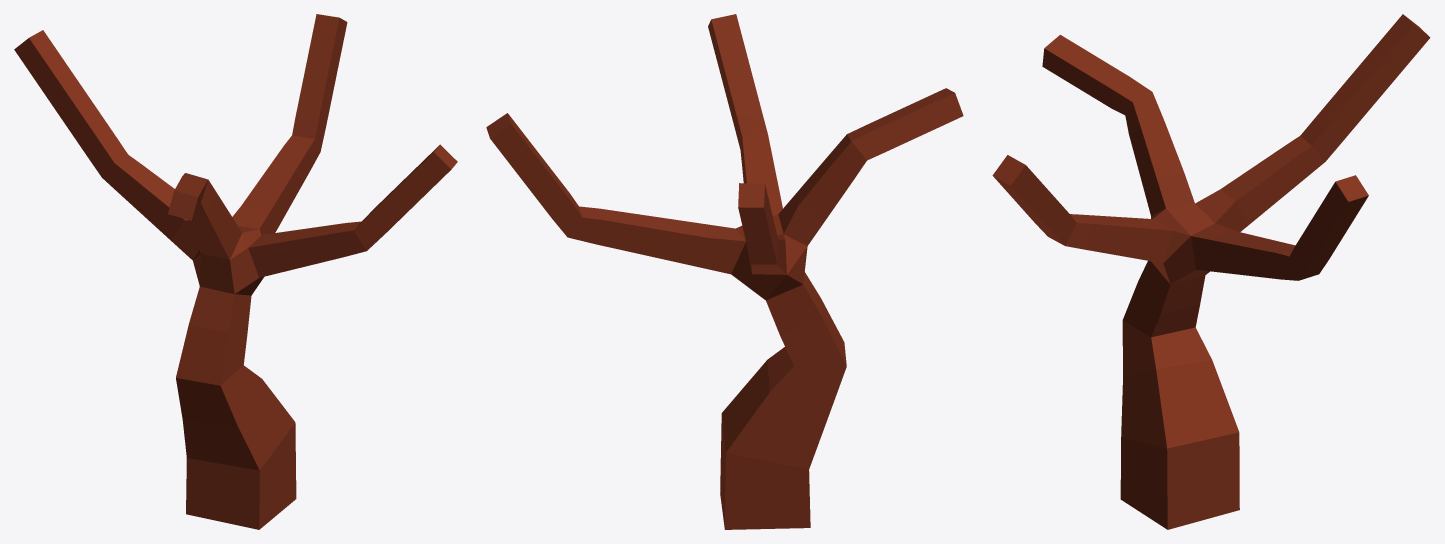
Rendered from Arbol_Podado_3.fbx.
3 views of the same model, side by side, from view 1: azimuth 30°, elevation 25°; view 2: azimuth 150°, elevation 25°; view 3: azimuth 270°, elevation 25° (orthographic). The views are drawn at different scales.
Visible parts, largest first — view 1: Cube.005; view 2: Cube.005; view 3: Cube.005.
Boxes of the visible parts, x1,y1,x2,y2 form: Cube.005: (14, 14, 457, 529); Cube.005: (486, 14, 963, 529); Cube.005: (992, 14, 1430, 529).
Bounding box in the file's own units: 1.09 × 1.36 × 1.24.
